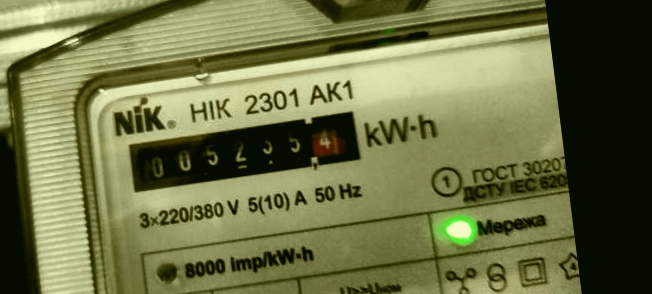0: (148, 152, 166, 178), (175, 146, 193, 172)
2: (229, 135, 249, 163)
3: (256, 129, 276, 156)
4: (313, 122, 335, 153)
5: (284, 125, 303, 154), (203, 140, 220, 167)
screen: (114, 99, 371, 201)
